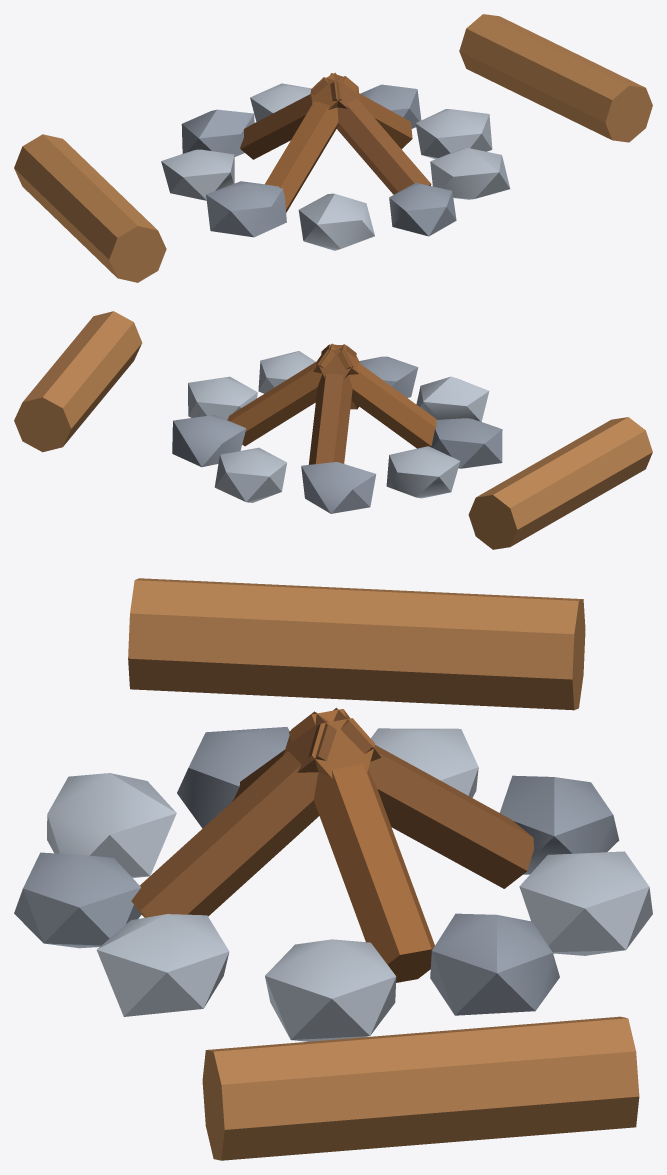
Rendered from home_bonfire.fbx.
3 renders of one model, top to bottom at view 1: azimuth 30°, elevation 25°; view 2: azimuth 150°, elevation 25°; view 3: azimuth 270°, elevation 25°, orthographic. The views are drawn at different scales.
Visible parts, largest first — view 1: home_bonfire; view 2: home_bonfire; view 3: home_bonfire.
Part boxes in pixels (bbox=[...]): home_bonfire: bbox=[14, 14, 652, 282]; home_bonfire: bbox=[14, 311, 652, 549]; home_bonfire: bbox=[14, 578, 652, 1160].
Bounding box in the file's own units: 1.25 × 0.2468 × 0.6471.
